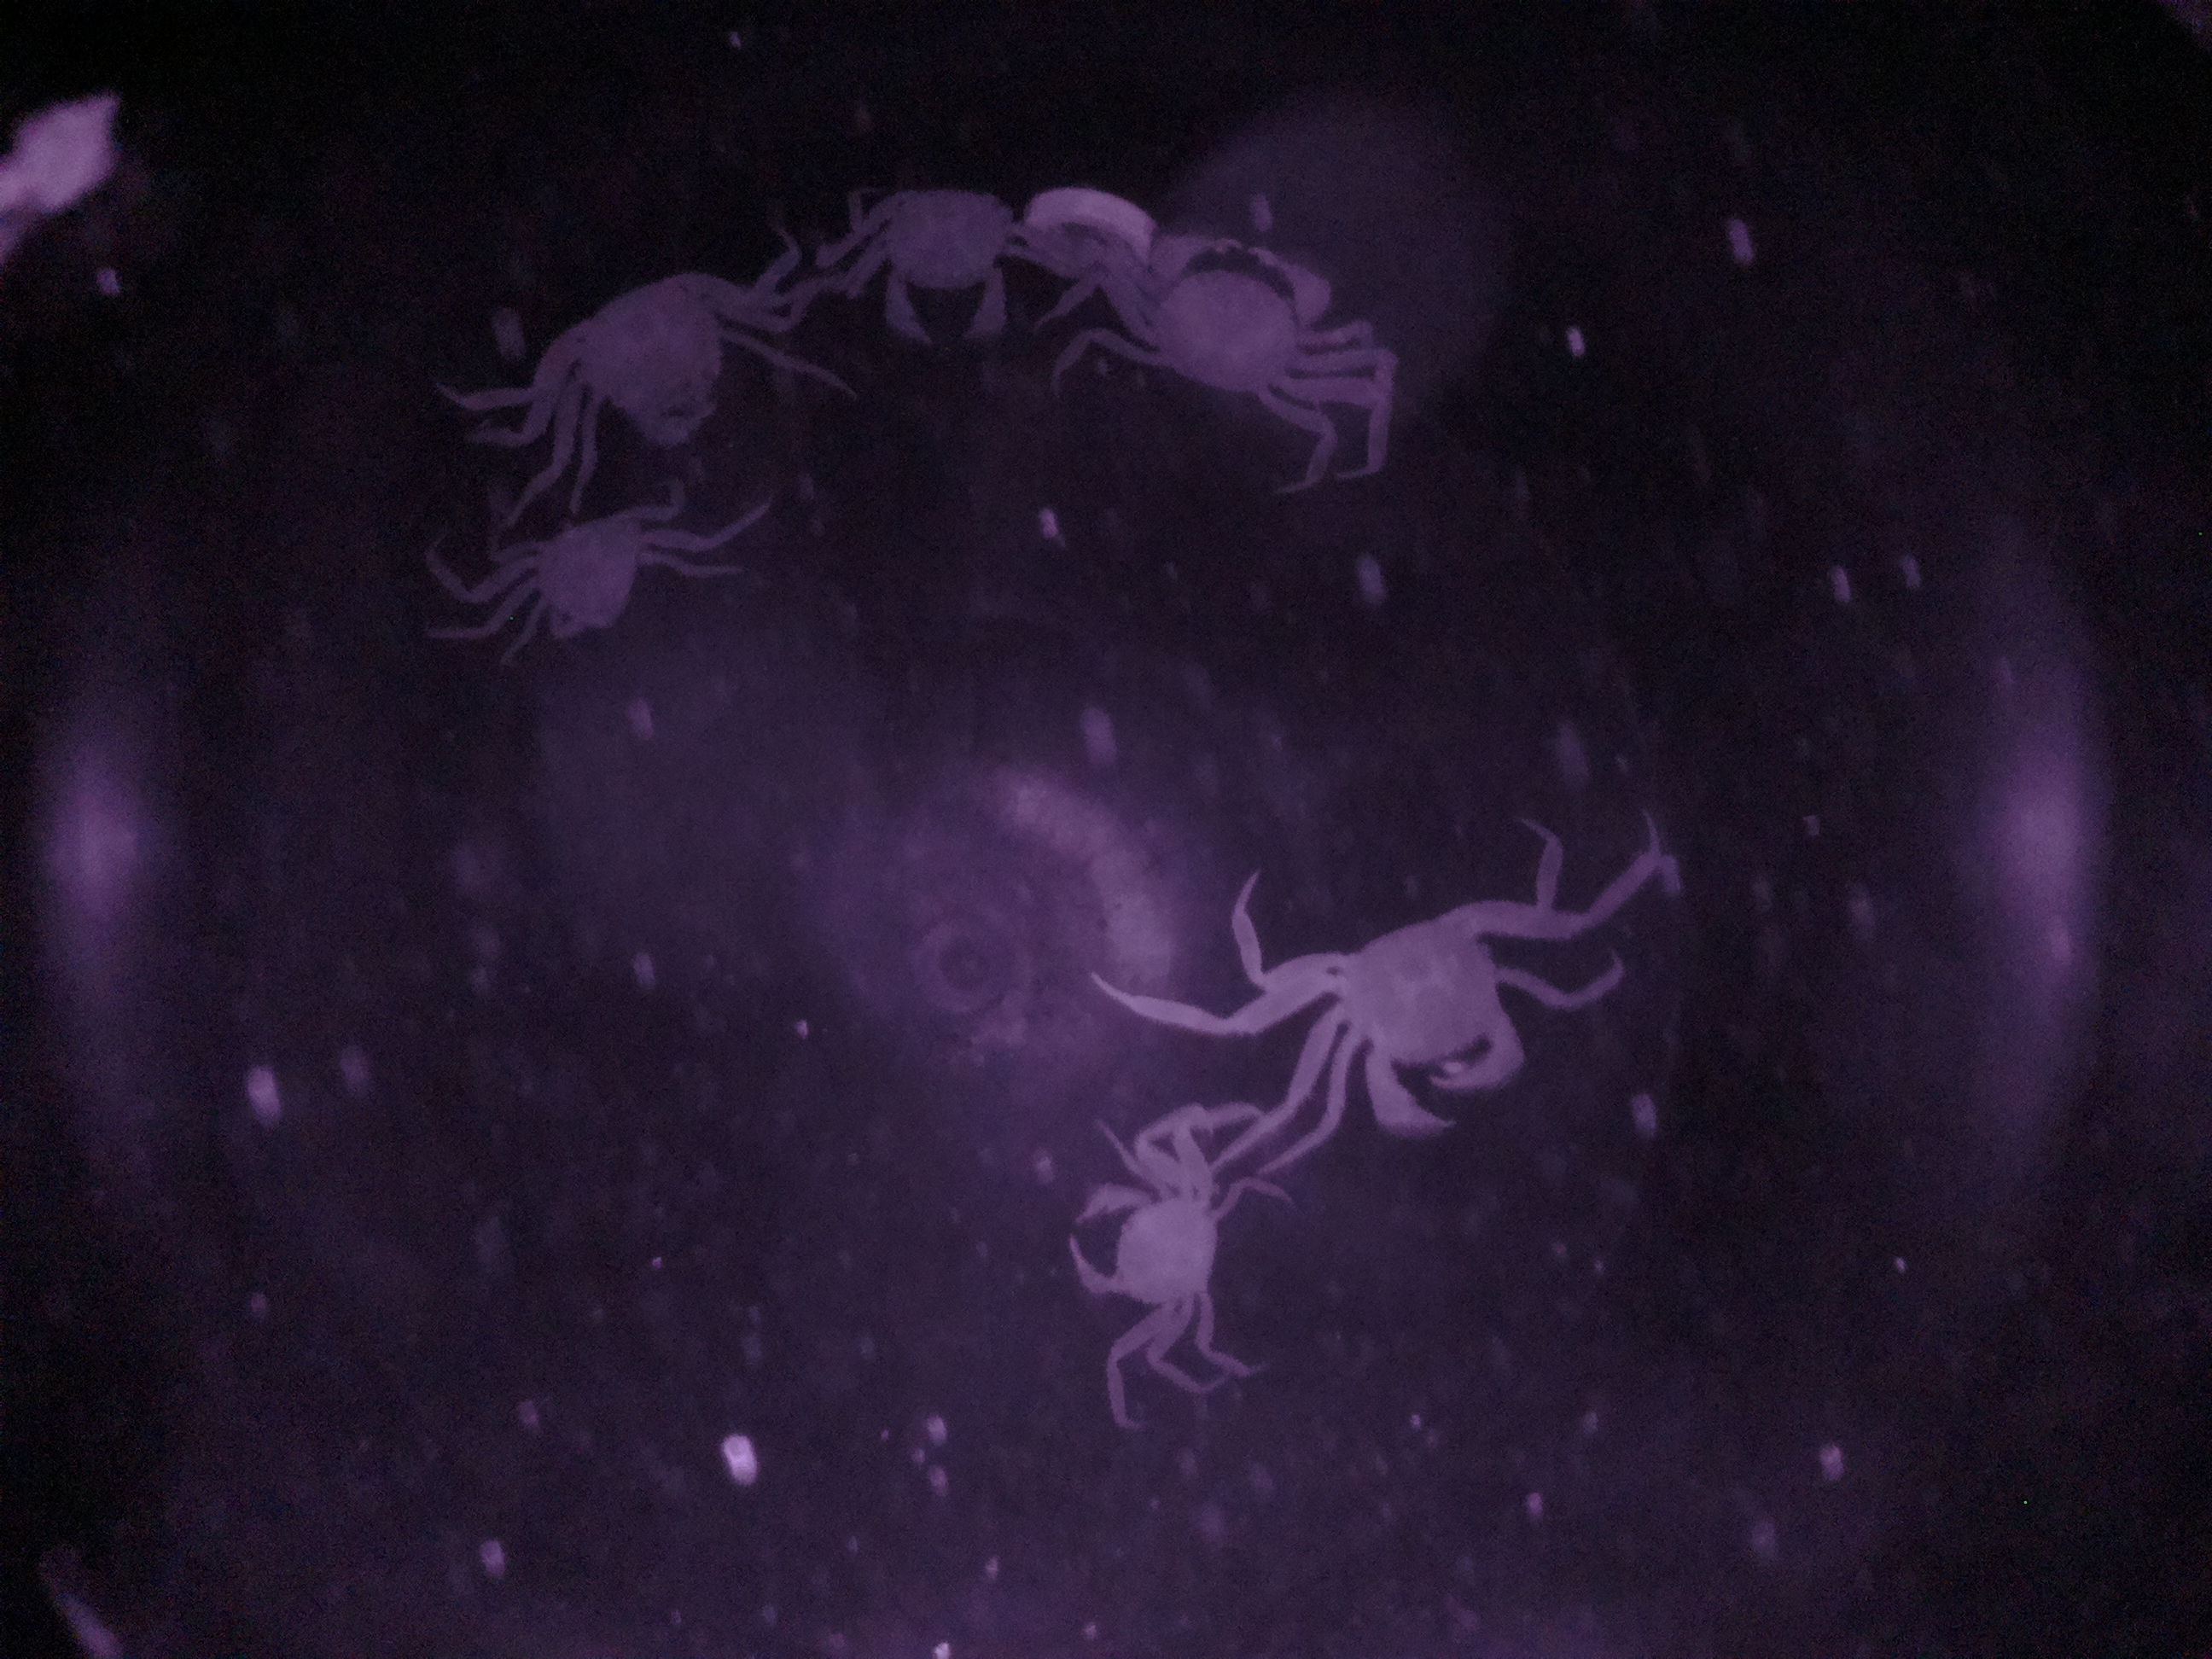Crab: (1245, 871, 1559, 1148), (1075, 227, 1362, 434), (1064, 1103, 1251, 1378), (479, 497, 716, 666)
